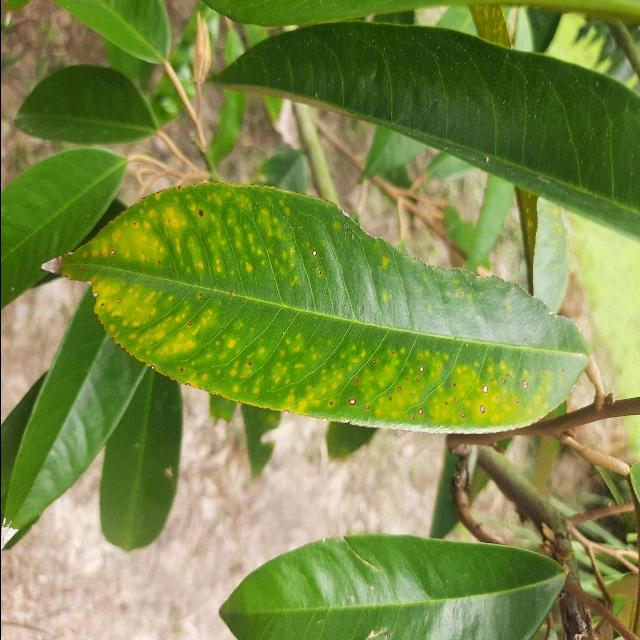Leaf Spot: (31, 173, 601, 441)
